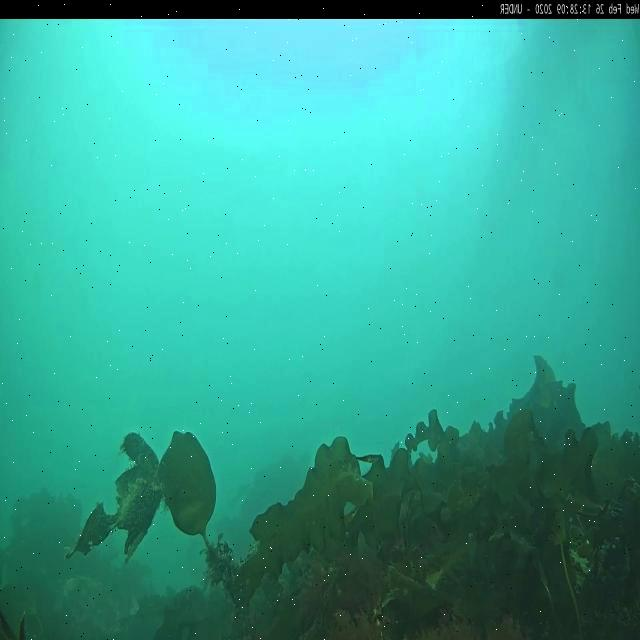fish: (352, 452, 382, 464)
